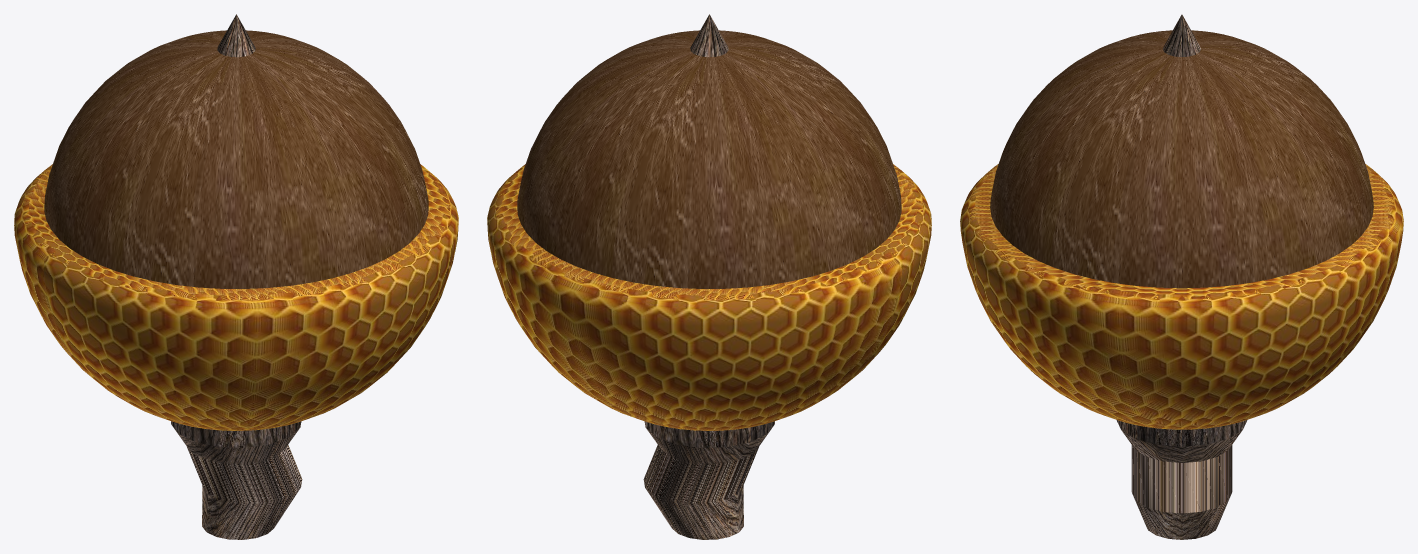
The model's file is Finduk.fbx.
The picture shows the model from 3 angles, left to right: view 1: azimuth 30°, elevation 25°; view 2: azimuth 150°, elevation 25°; view 3: azimuth 270°, elevation 25°; orthographic projection.
Visible parts, largest first — view 1: Cylinder; view 2: Cylinder; view 3: Cylinder.
Boxes of the visible parts, x1,y1,x2,y2 form: Cylinder: (14,14,458,539); Cylinder: (487,14,931,539); Cylinder: (960,14,1403,539).
Bounding box in the file's own units: 230 × 291 × 230.
3 materials, 3 textured.
